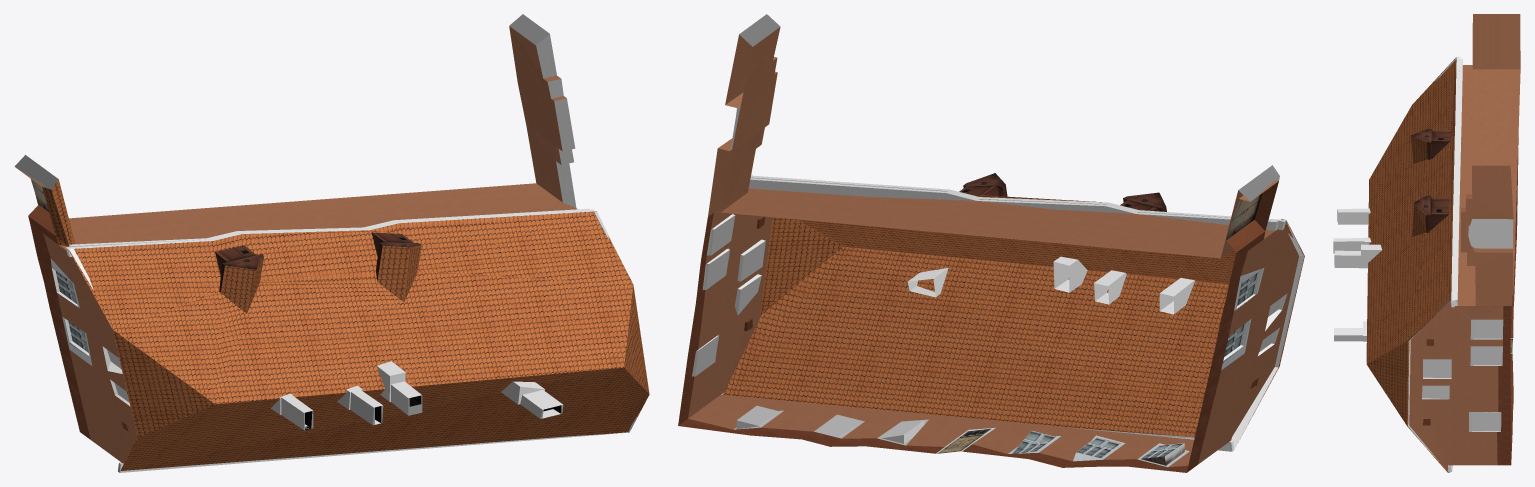
The model's file is Kiriku_8_2-origo.obj.
3 renders of one model, left to right at view 1: azimuth 30°, elevation 25°; view 2: azimuth 150°, elevation 25°; view 3: azimuth 270°, elevation 25°, orthographic. The views are drawn at different scales.
Visible parts, largest first — view 1: Kiriku_8_2; view 2: Kiriku_8_2; view 3: Kiriku_8_2.
Boxes of the visible parts, x1,y1,x2,y2 form: Kiriku_8_2: (14, 14, 649, 472); Kiriku_8_2: (678, 14, 1304, 472); Kiriku_8_2: (1333, 14, 1520, 472).
Bounding box in the file's own units: 33.81 × 23 × 13.66.
